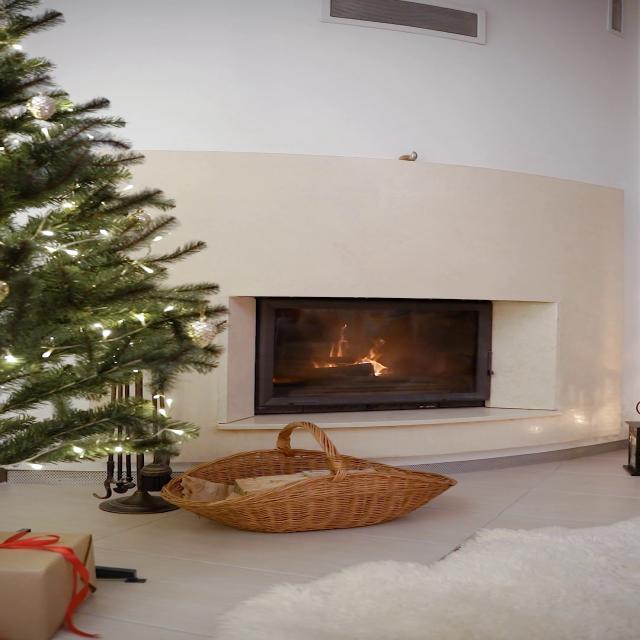Fire: (342, 346, 402, 378)
